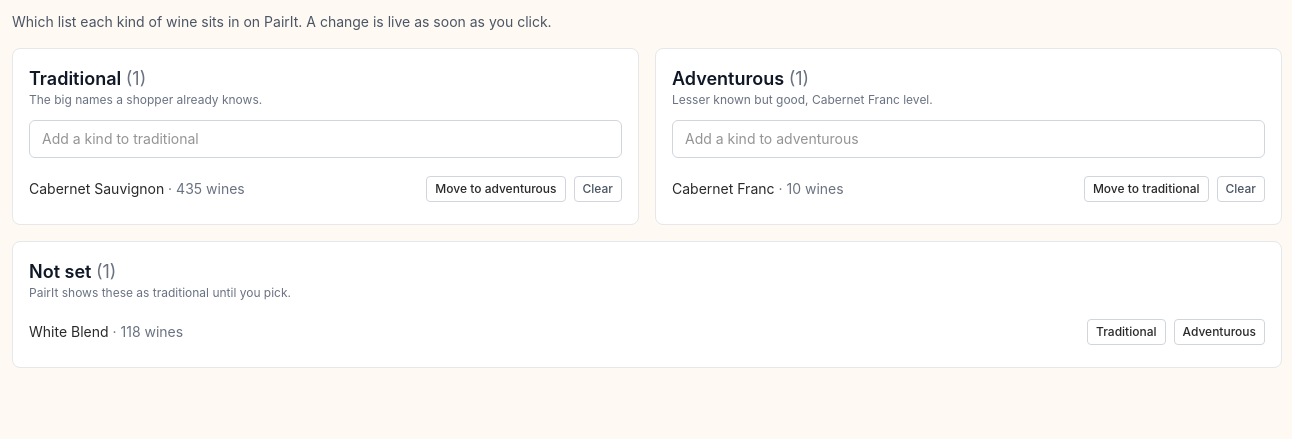
it: WineKindsTab › WK5 a refused change shows the error and leaves the lists as they were
The image size is (1292, 439).
Click the button "Adventurous": [1219, 332] box x1=1174 y1=319 x2=1265 y2=345
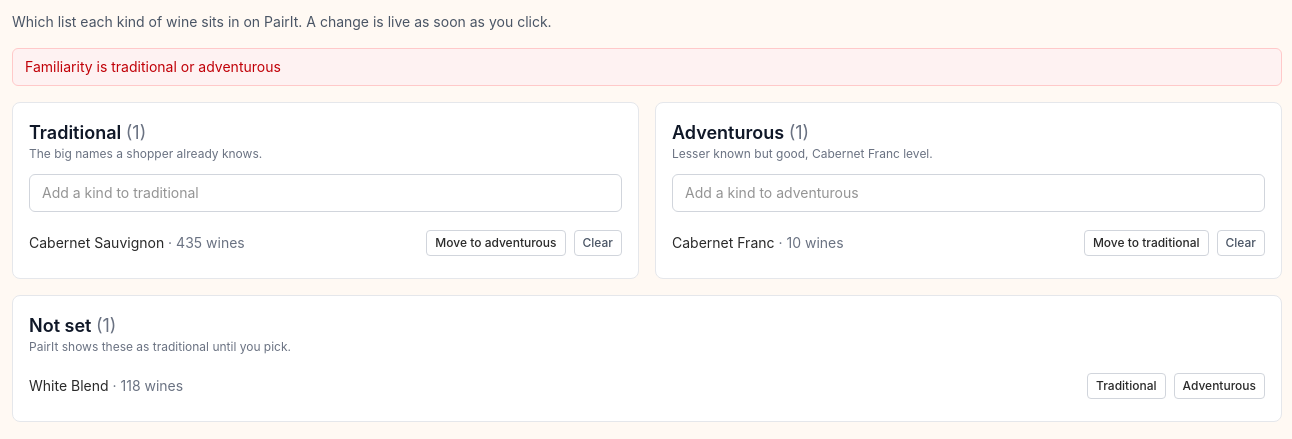
Expected: the text "White Blend" is shown, x1=29 y1=377 x2=109 y2=394
Now the message shows "traditional or adventurous", box x1=25 y1=58 x2=281 y2=75
